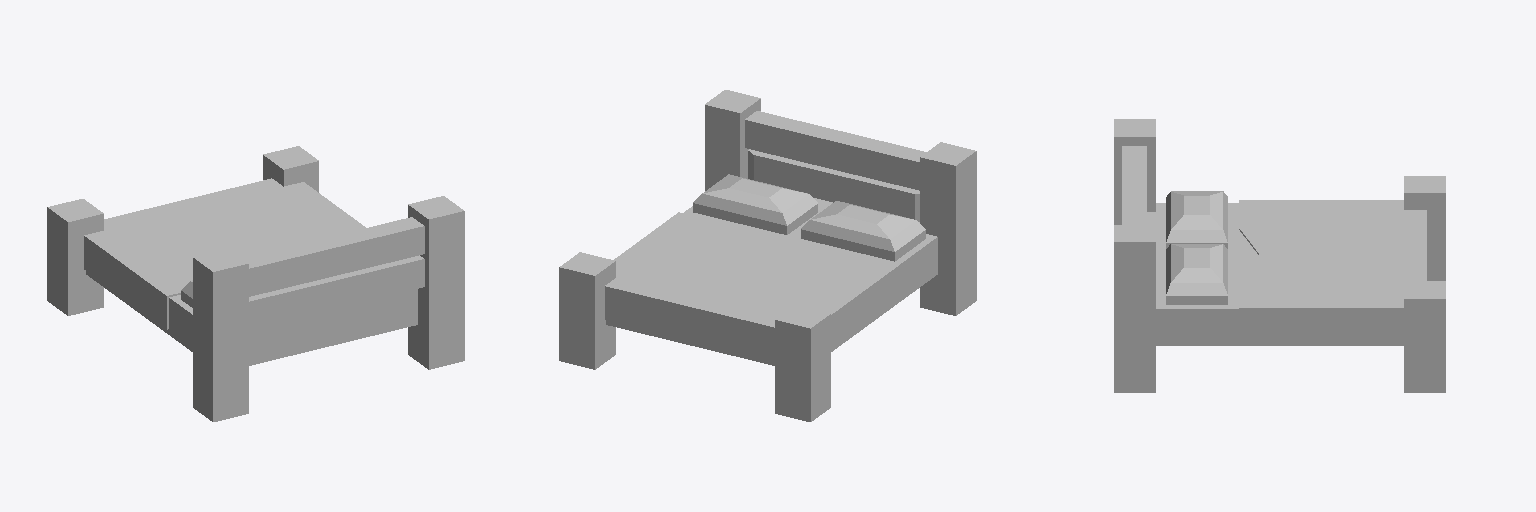
The model's file is bed_double_verdantforest.obj.
3 renders of one model, left to right at view 1: azimuth 30°, elevation 25°; view 2: azimuth 150°, elevation 25°; view 3: azimuth 270°, elevation 25°, orthographic.
Parts seen in each view (by area): view 1: bed_verdant_forest_double; view 2: bed_verdant_forest_double; view 3: bed_verdant_forest_double.
Boxes of the visible parts, x1,y1,x2,y2 form: bed_verdant_forest_double: [47, 146, 464, 421]; bed_verdant_forest_double: [559, 90, 976, 421]; bed_verdant_forest_double: [1114, 119, 1445, 392].
Size of the model in its own units: 1.4 by 0.8 by 1.6.